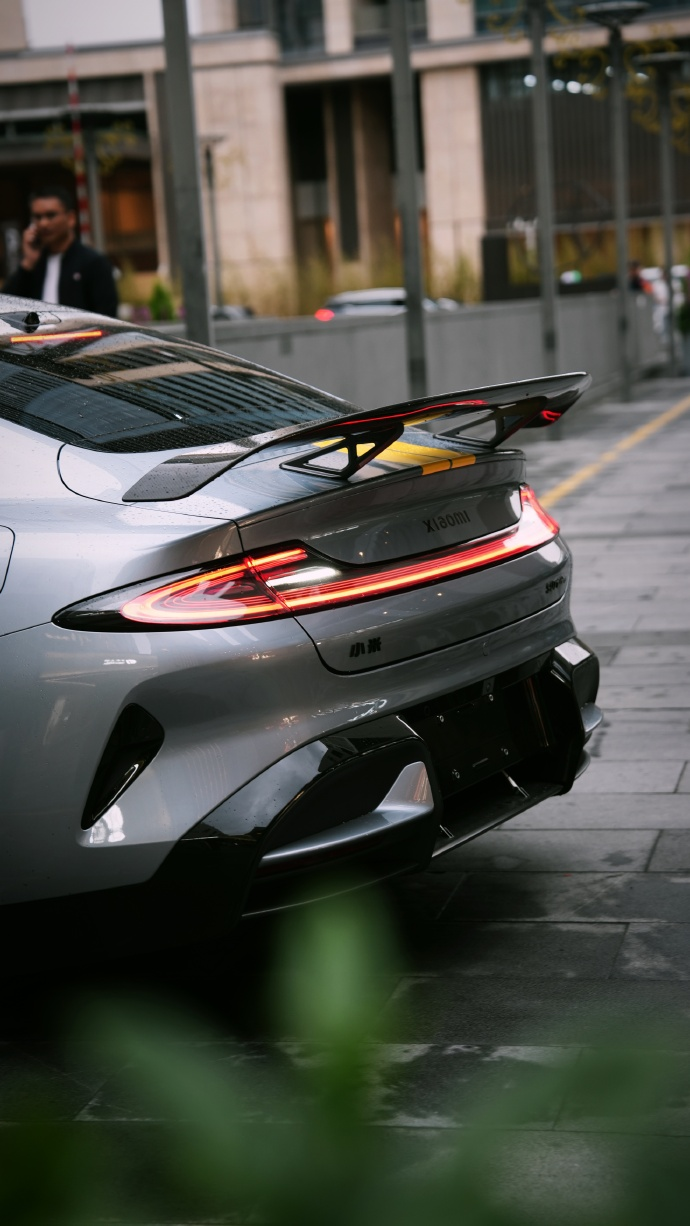su7: (0, 319, 601, 932)
